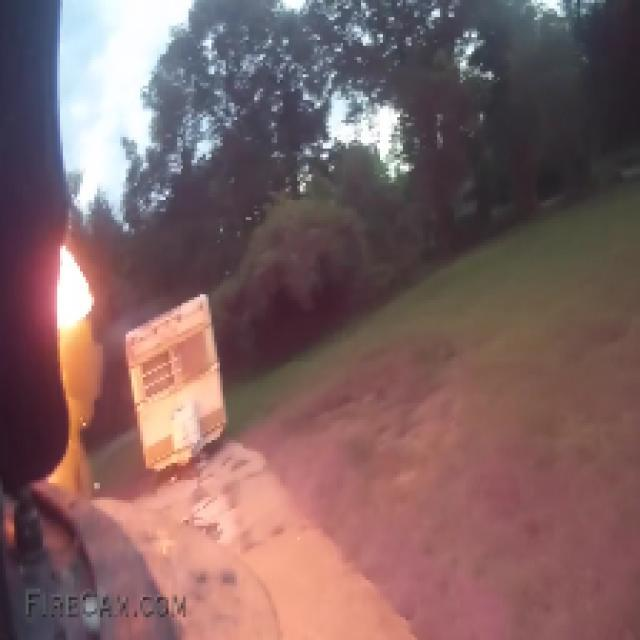Fire: (56, 257, 86, 322)
